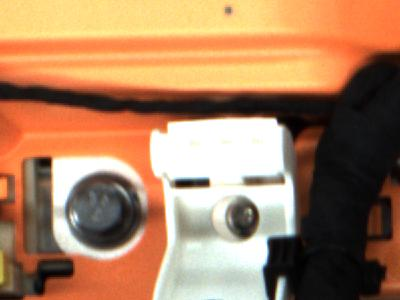nut_b: (61, 170, 143, 252)
